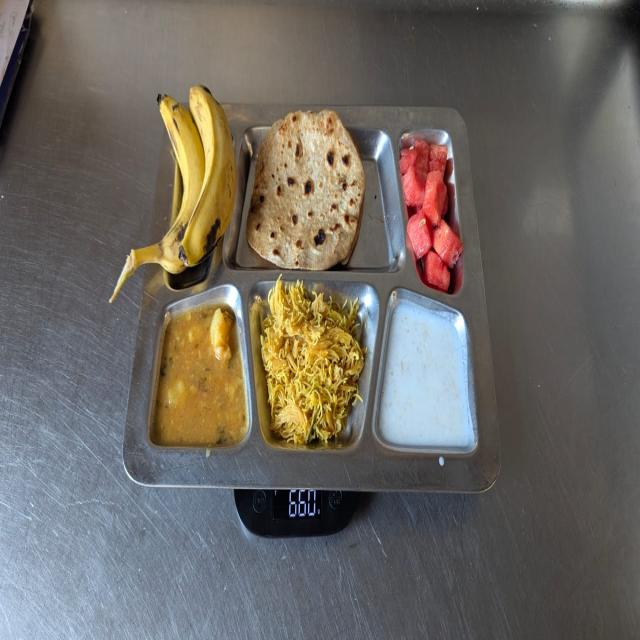Aloo Sabji: (151, 292, 249, 456)
Banana: (127, 79, 240, 280)
Chapati: (247, 101, 368, 276)
Porridge: (376, 298, 476, 453)
Upma: (258, 279, 368, 453)
Watermelon: (398, 128, 464, 293)
